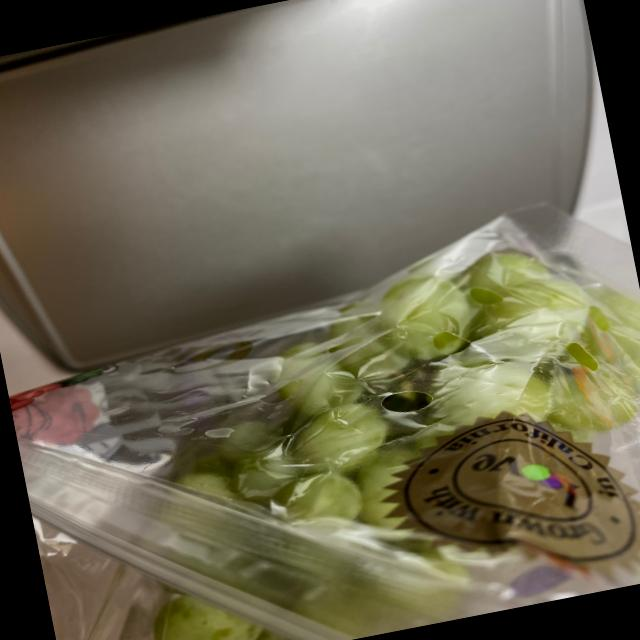grapes: (92, 231, 640, 640)
